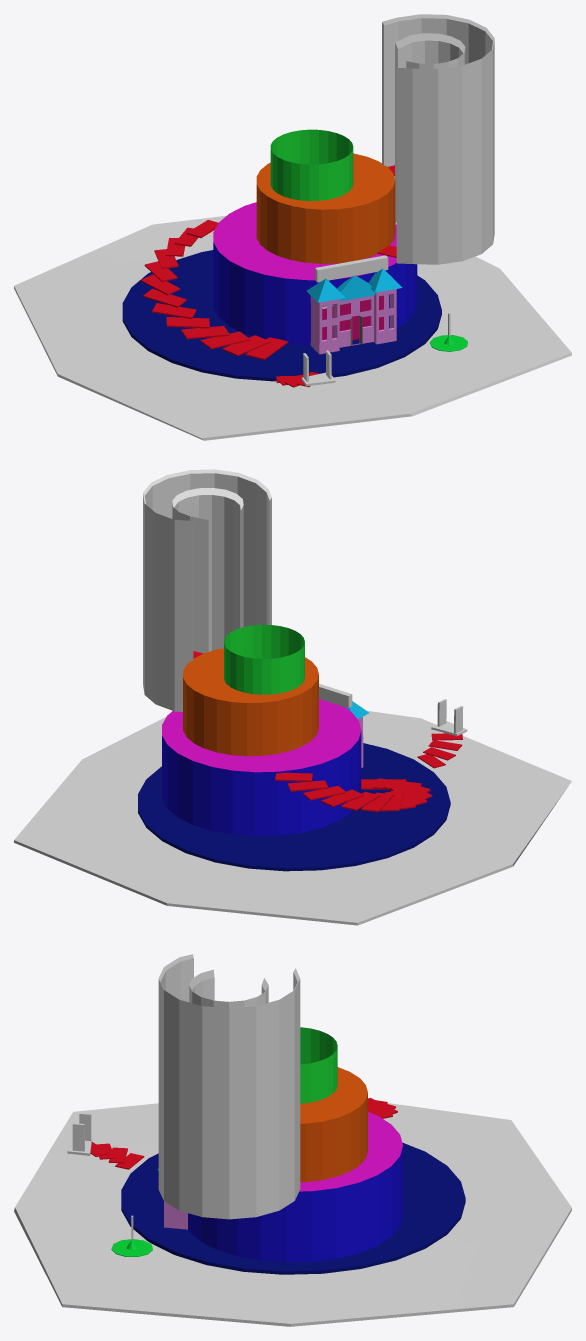
The model's file is caketown_collider230206.fbx.
3 views of the same model, one above another, from view 1: azimuth 30°, elevation 25°; view 2: azimuth 150°, elevation 25°; view 3: azimuth 270°, elevation 25° (orthographic). The views are drawn at different scales.
Parts seen in each view (by area): view 1: caketown_collider; view 2: caketown_collider; view 3: caketown_collider.
Boxes of the visible parts, x1,y1,x2,y2 form: caketown_collider: (14,14,571,440); caketown_collider: (14,469,571,925); caketown_collider: (14,954,571,1326).
Size of the model in its own units: 4708 by 2816 by 4780.
